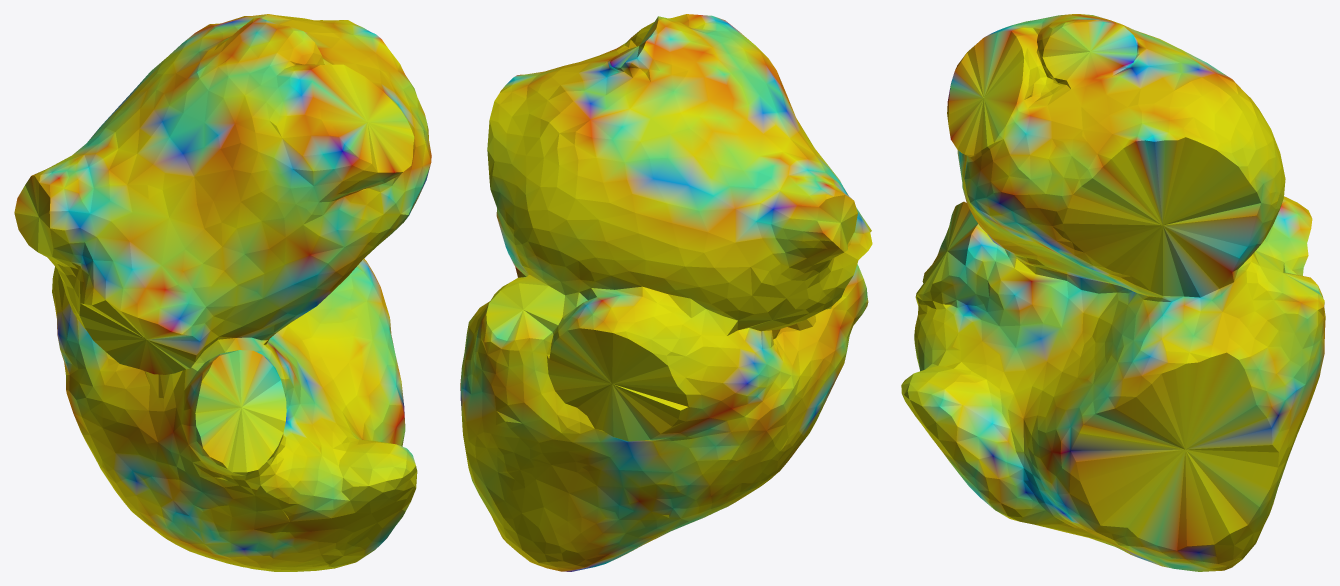
The model's file is atrialwithcolor.obj.
3 views of the same model, side by side, from view 1: azimuth 30°, elevation 25°; view 2: azimuth 150°, elevation 25°; view 3: azimuth 270°, elevation 25° (orthographic). The views are drawn at different scales.
Size of the model in its own units: 102 by 149 by 108.
